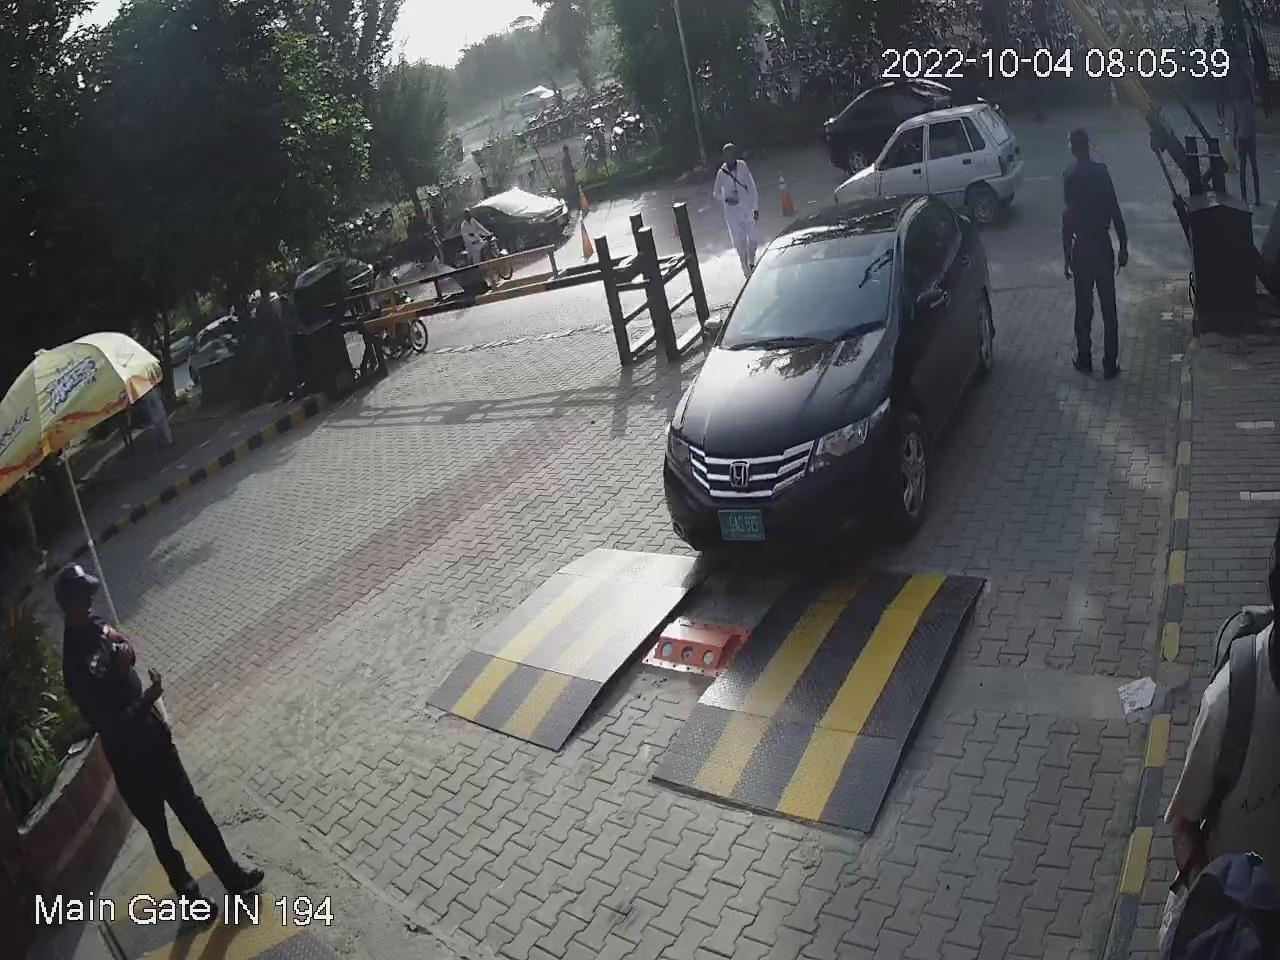windshield: (713, 210, 905, 353)
